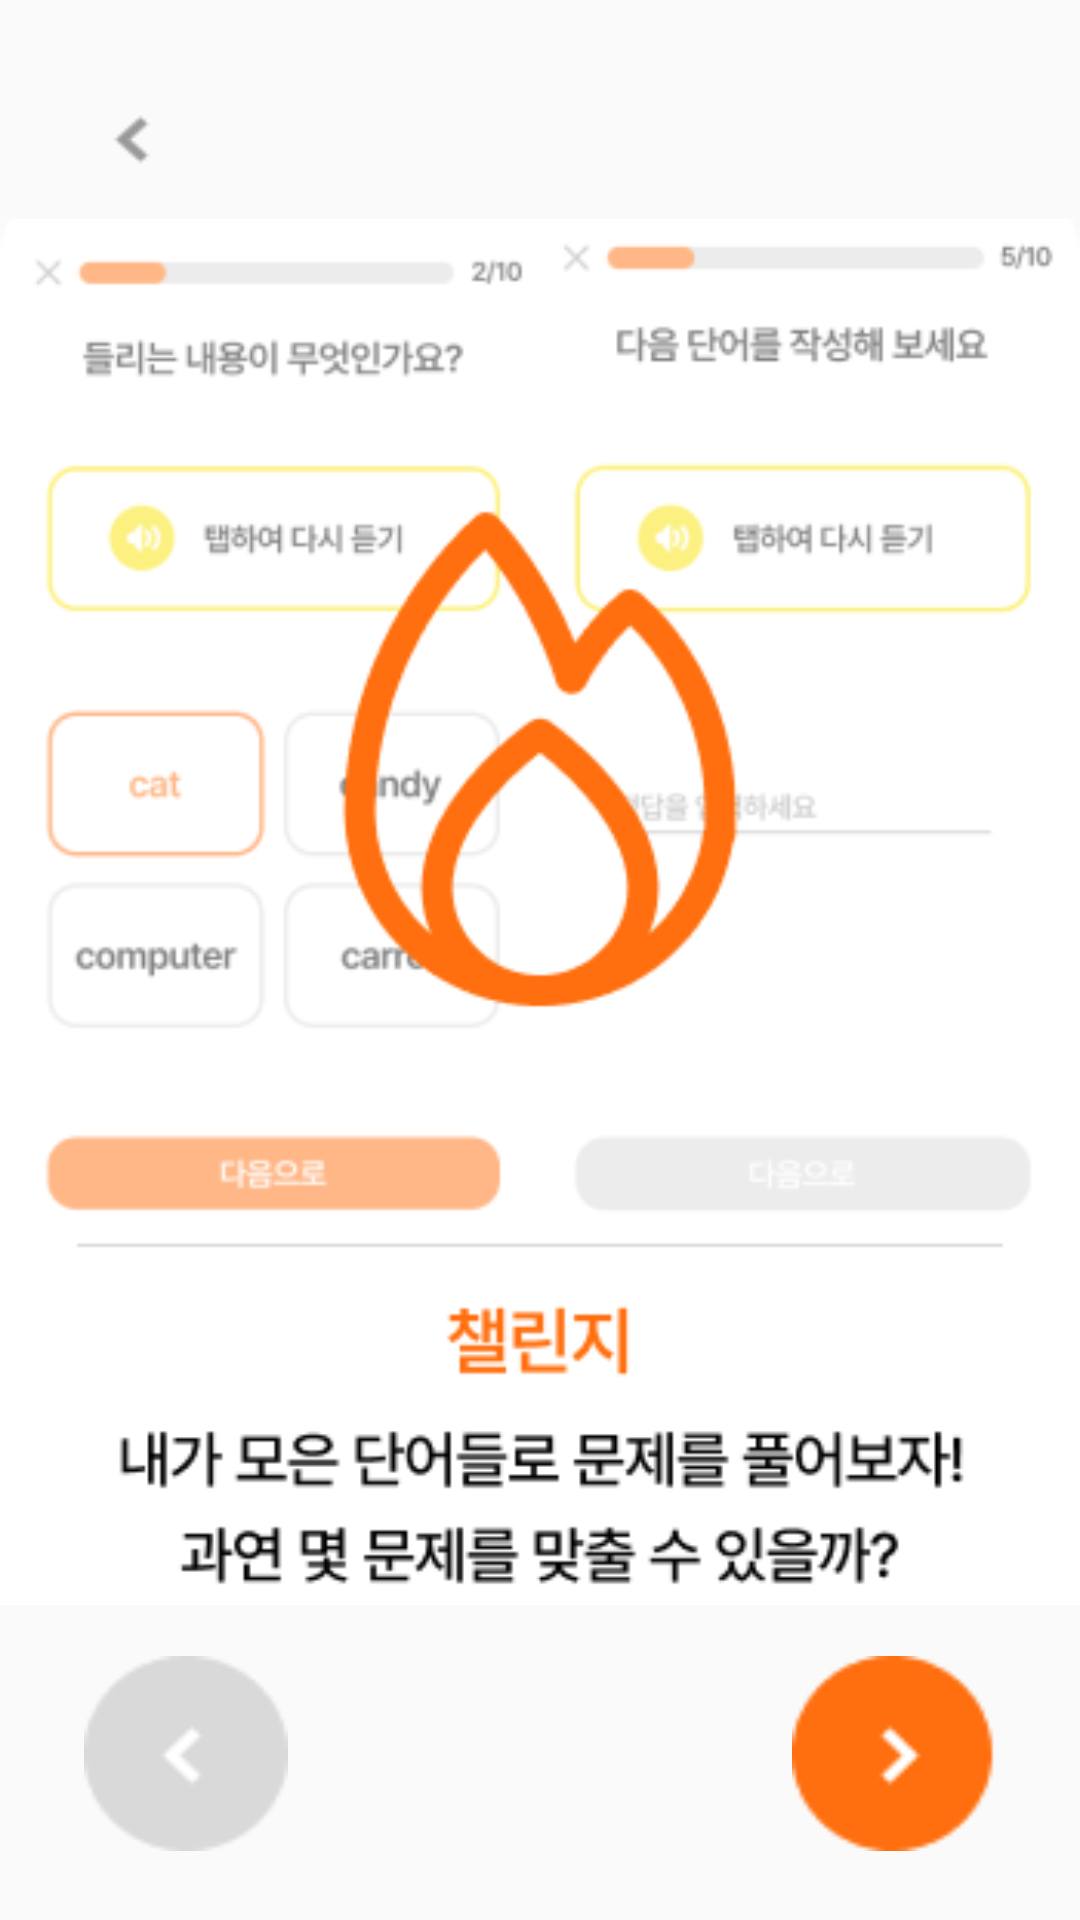

Named icons in this screenshot (1080×1920) and their bounding boxes, bbox=(x1, y1, x2, y2):
back3: bbox=(115, 117, 148, 162)
before6: bbox=(84, 1656, 288, 1851)
next8: bbox=(792, 1656, 994, 1851)
